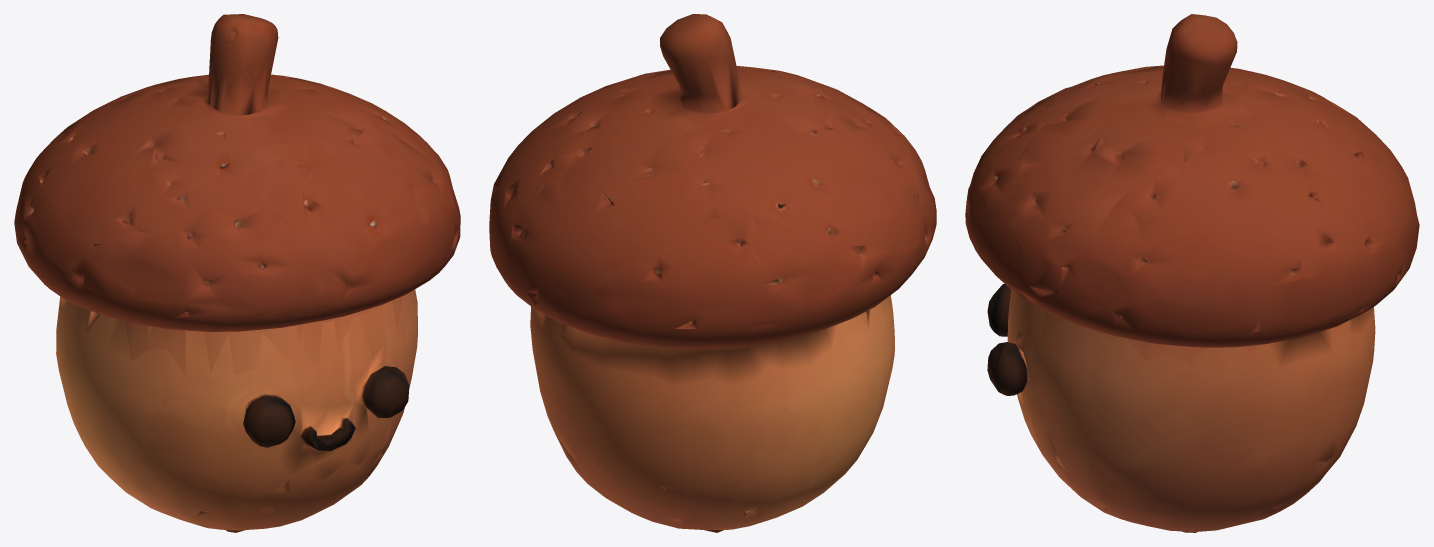
File: acorn.fbx
The picture shows the model from 3 angles, left to right: view 1: azimuth 30°, elevation 25°; view 2: azimuth 150°, elevation 25°; view 3: azimuth 270°, elevation 25°; orthographic projection.
Parts seen in each view (by area): view 1: tripo_node_ad2f1e92; view 2: tripo_node_ad2f1e92; view 3: tripo_node_ad2f1e92.
Part boxes in pixels (bbox=[...]): tripo_node_ad2f1e92: bbox=[14, 14, 460, 532]; tripo_node_ad2f1e92: bbox=[489, 14, 936, 532]; tripo_node_ad2f1e92: bbox=[965, 14, 1419, 532].
Size of the model in its own units: 0.0635 by 0.08 by 0.0637.
Materials: 1 (1 with a texture image).
